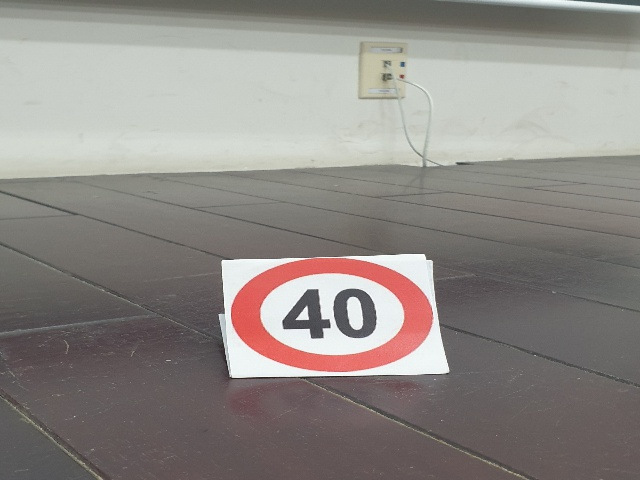Limit 40: (231, 258, 434, 372)
